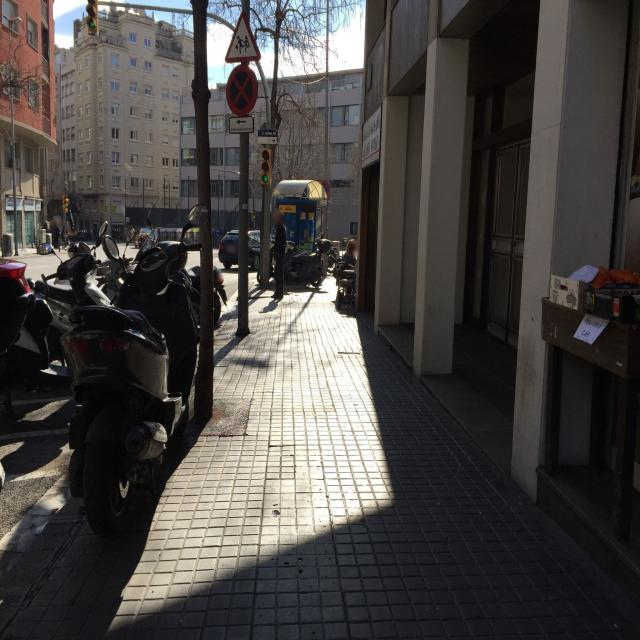bike: (63, 212, 206, 540), (0, 203, 107, 448)
car: (218, 229, 262, 270)
